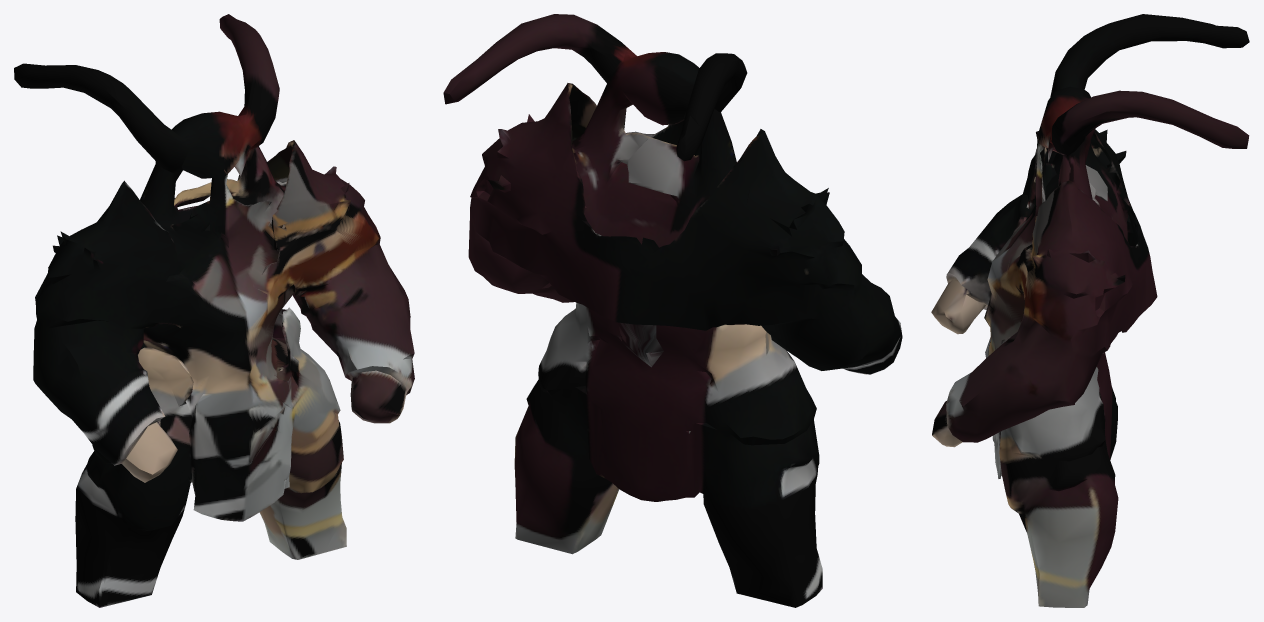
The model's file is chunky-knight-clean_web.glb.
3 views of the same model, side by side, from view 1: azimuth 30°, elevation 25°; view 2: azimuth 150°, elevation 25°; view 3: azimuth 270°, elevation 25° (orthographic). The views are drawn at different scales.
Parts seen in each view (by area): view 1: LOD0; view 2: LOD0; view 3: LOD0.
Boxes of the visible parts, left/top/right/bottom form: LOD0: left=14, top=14, right=414, bottom=607; LOD0: left=443, top=14, right=902, bottom=607; LOD0: left=931, top=14, right=1249, bottom=607.
Bounding box in the file's own units: 1.54 × 2 × 1.17.
1 material, 1 textured.
